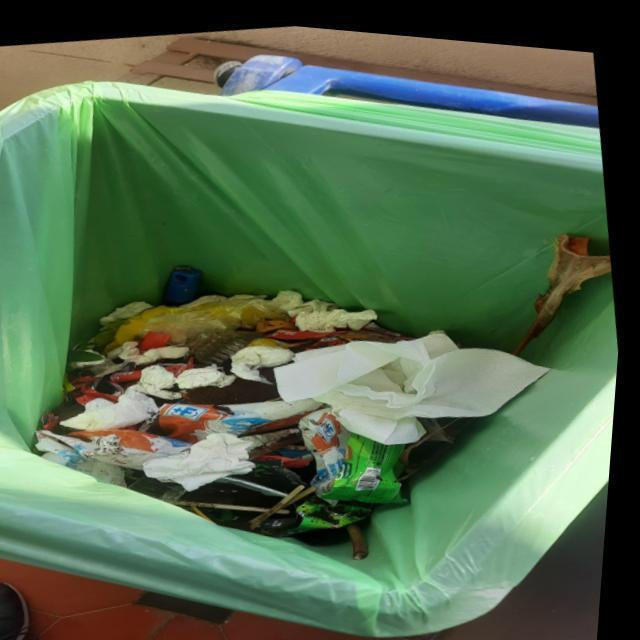Disposable: (192, 324, 268, 362), (131, 465, 193, 498)
Garbage: (41, 285, 553, 552)
Plastic_Bag: (43, 426, 196, 483), (149, 290, 295, 341), (163, 393, 328, 438), (305, 403, 358, 489), (221, 470, 296, 491)
Plastic_wraper: (326, 425, 414, 496), (281, 490, 382, 530), (83, 359, 142, 402), (346, 321, 419, 336), (312, 329, 352, 344)
